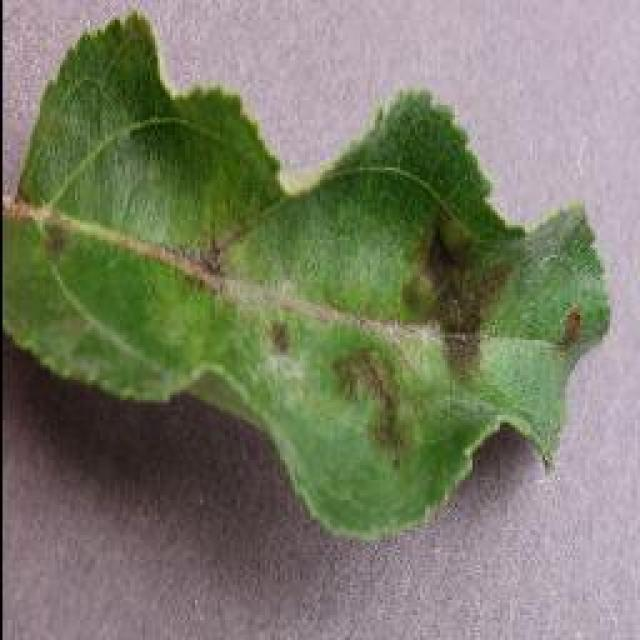apple scab disease: (2, 8, 612, 542)
